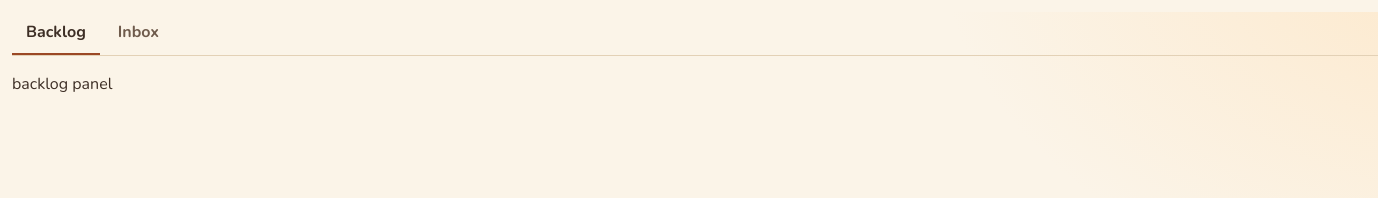
Test: Tabs › switches panels with click and keyboard
Expected: the panel reads "backlog panel", [12, 73, 112, 95]
Click the tab "Inbox" at (138, 34), box [104, 12, 173, 56]
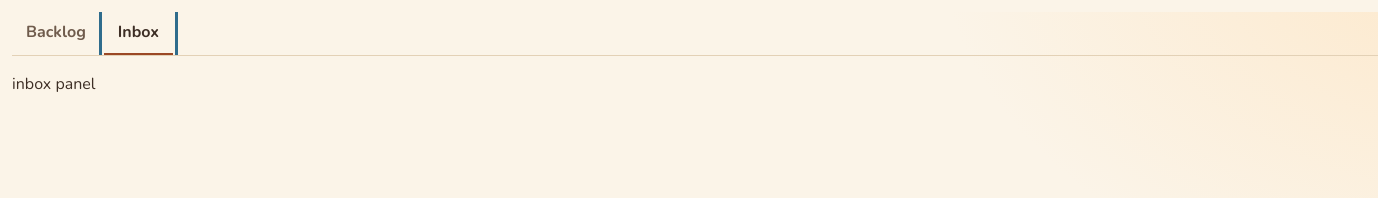
Now the panel reads "inbox panel", box [12, 73, 96, 95]
Press Home
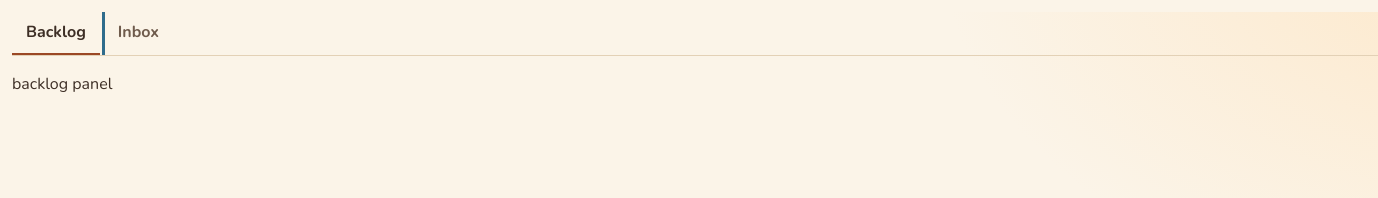
Now the panel reads "backlog panel", box [12, 73, 112, 95]
